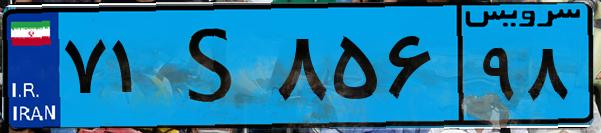1: (110, 28, 158, 98)
5: (330, 28, 385, 110)
6: (385, 28, 445, 110)
7: (57, 26, 110, 100)
8: (270, 28, 330, 110), (525, 38, 570, 115)
9: (475, 38, 525, 113)
S: (158, 12, 270, 120)
